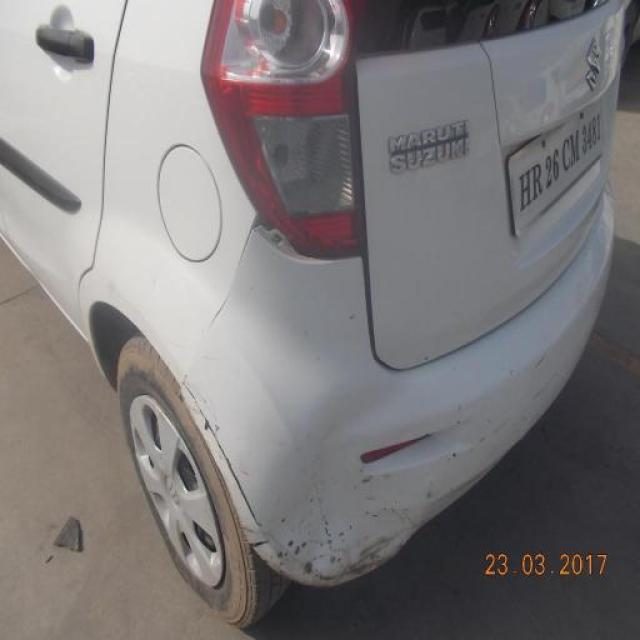scratch: (183, 378, 270, 532), (244, 522, 406, 585)
tear: (204, 208, 363, 343)
